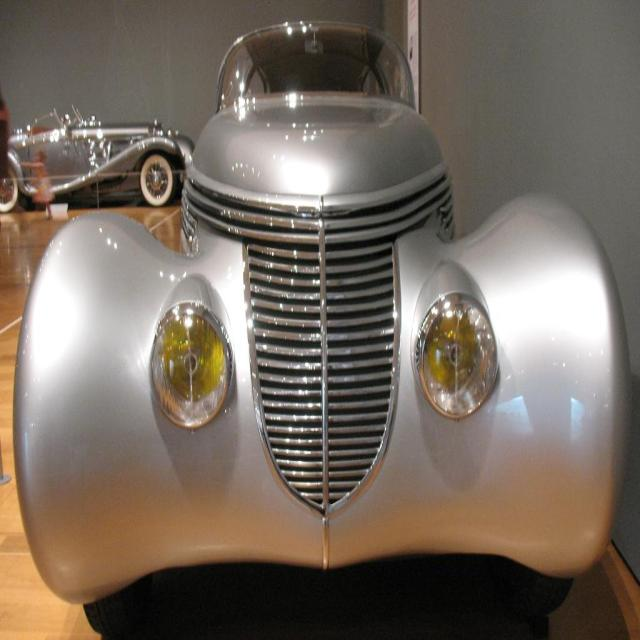car: (9, 7, 637, 635)
